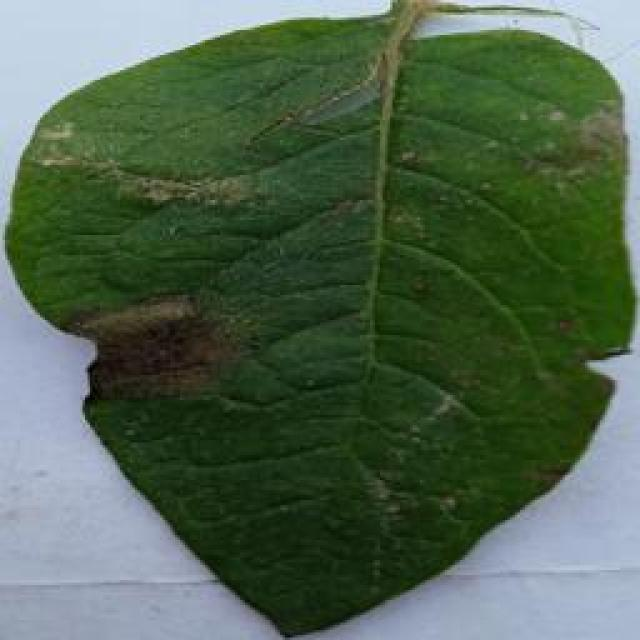Potato_Late_Blight: (6, 8, 625, 638)
